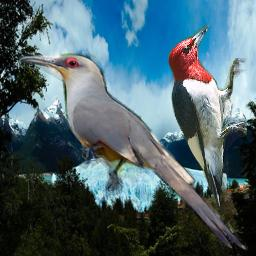Cuckoo: (18, 52, 248, 255)
Woodpecker: (167, 25, 247, 215)
